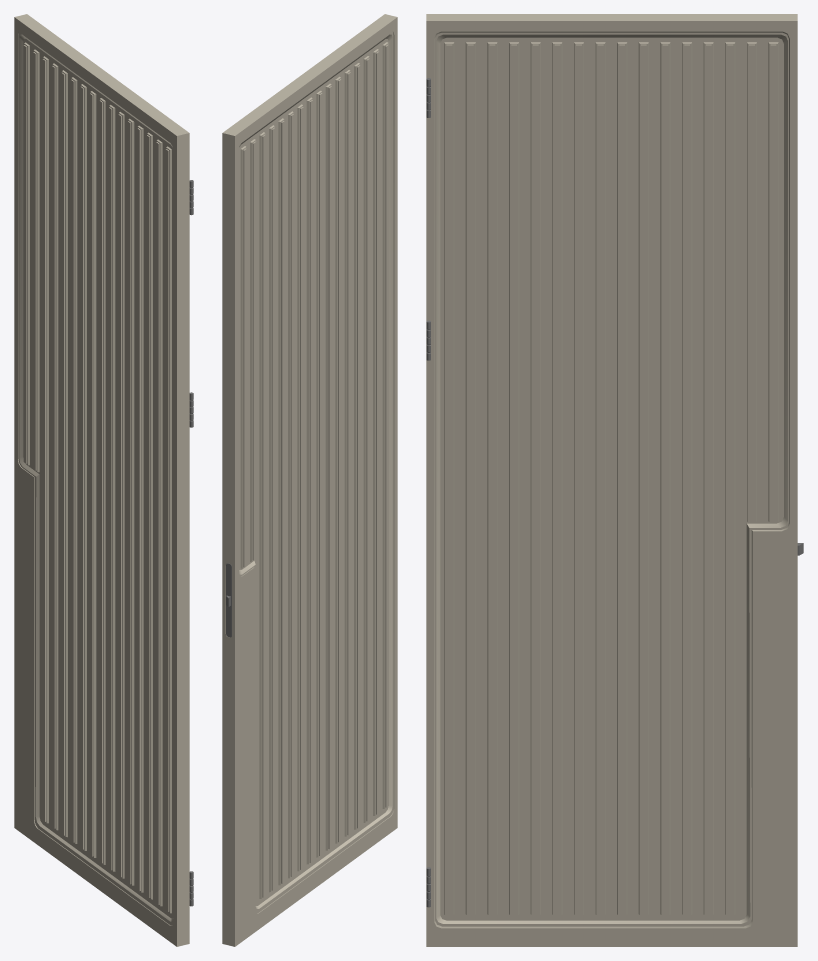
File: 37_VIENNA_Door.glb
3 views of the same model, side by side, from view 1: azimuth 30°, elevation 25°; view 2: azimuth 150°, elevation 25°; view 3: azimuth 270°, elevation 25° (orthographic). The views are drawn at different scales.
Visible parts, largest first — view 1: 37_VIENNA_Door; view 2: 37_VIENNA_Door; view 3: 37_VIENNA_Door.
Part boxes in pixels (box(x1,y1,x2,y2)): 37_VIENNA_Door: box(14, 14, 193, 946); 37_VIENNA_Door: box(222, 14, 397, 946); 37_VIENNA_Door: box(426, 14, 803, 946).
Size of the model in its own units: 0.049 by 2.2 by 0.8127.
